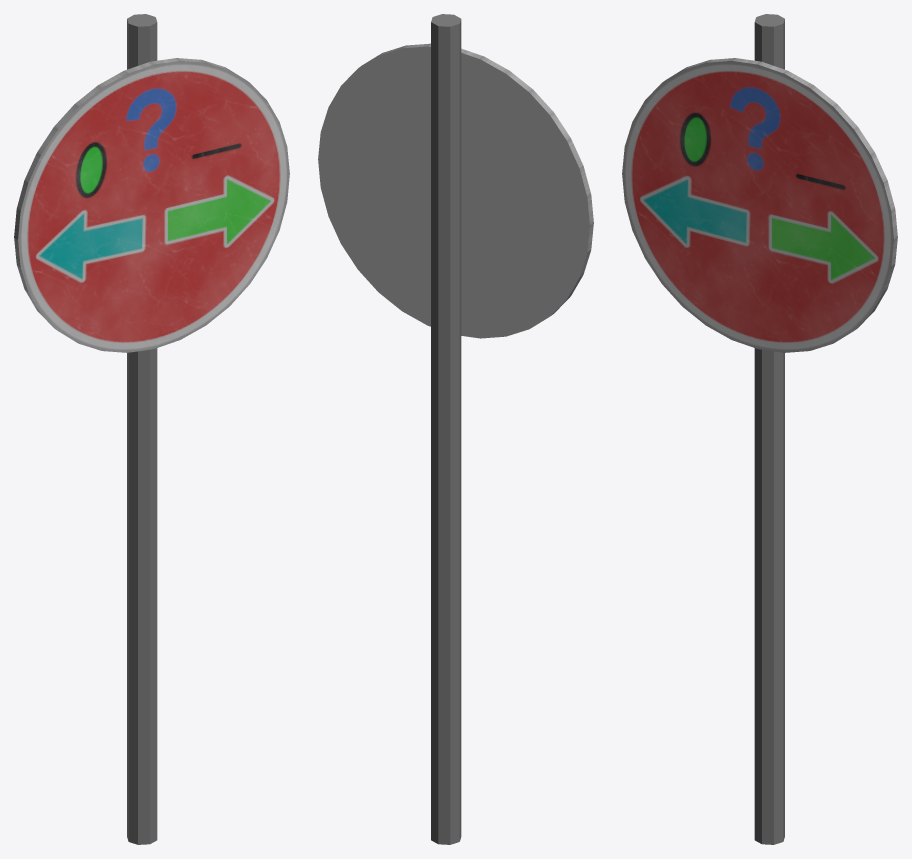
Rendered from Sign.fbx.
The picture shows the model from 3 angles, left to right: view 1: azimuth 30°, elevation 25°; view 2: azimuth 150°, elevation 25°; view 3: azimuth 330°, elevation 25°; orthographic projection.
Parts seen in each view (by area): view 1: Mesh; view 2: Mesh; view 3: Mesh.
Boxes of the visible parts, x1,y1,x2,y2 form: Mesh: (14,14,289,844); Mesh: (318,14,593,844); Mesh: (622,14,897,844).
Bounding box in the file's own units: 0.8 × 2.3 × 0.1.
1 material, 1 textured.
